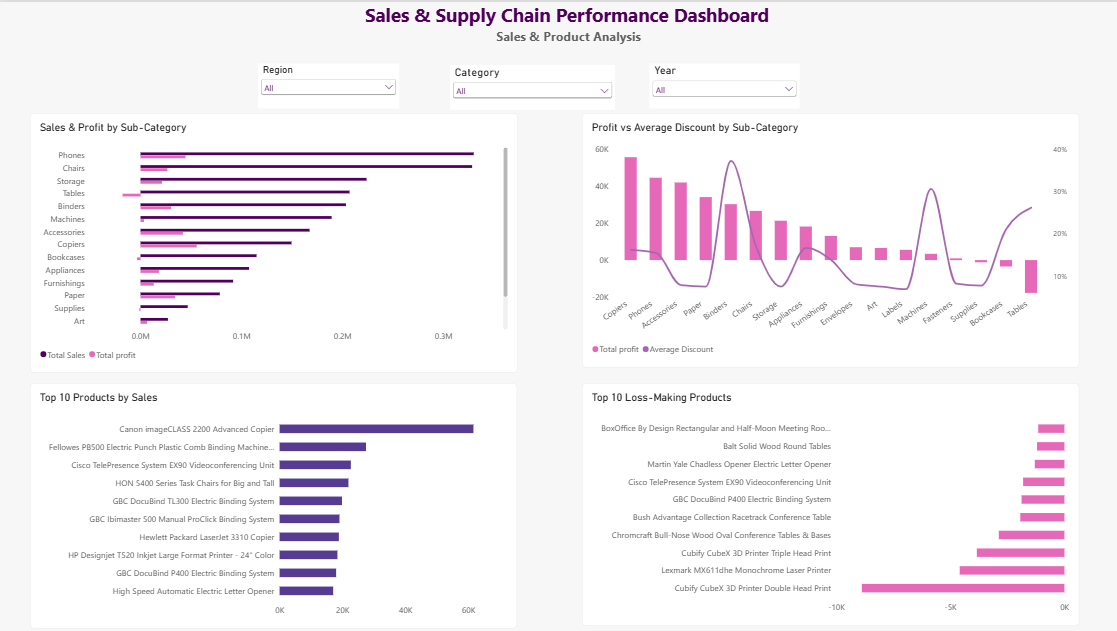

The page's visual inventory and layout, read from the dashboard file:
{"tool":"powerbi","page":{"name":"Sales & Product Analysis","canvas":[1920,1080],"ordinal":1},"visuals":[{"type":"clusteredBarChart","title":"Sales & Profit by Sub-Category","fields":{"Category":["Cleaned Sales Data.Sub-Category"],"Y":["Cleaned Sales Data.Total Sales","Cleaned Sales Data.Total profits"]},"box":[50,190,834.3,444.3],"z":0},{"type":"lineClusteredColumnComboChart","title":"Profit vs Average Discount by Sub-Category","fields":{"Category":["Cleaned Sales Data.Sub-Category"],"Y":["Cleaned Sales Data.Total profits"],"Y2":["Cleaned Sales Data.Average Discount"]},"box":[995,190,850,435],"z":1000},{"type":"clusteredBarChart","title":"Top 10 Loss-Making Products","fields":{"Category":["Cleaned Sales Data.Product Name"],"Y":["Cleaned Sales Data.Total profits"]},"box":[995,650,850,415],"z":2000},{"type":"clusteredBarChart","title":"Top 10 Products by Sales","fields":{"Category":["Cleaned Sales Data.Product Name"],"Y":["Cleaned Sales Data.Total Sales"]},"box":[50,650,832.5,420],"z":3000},{"type":"slicer","fields":{"Values":["Cleaned Sales Data.Category"]},"box":[768.6,107.1,282.1,76.9],"z":4000},{"type":"slicer","fields":{"Values":["Calendar Table.Year"]},"box":[1110,105.7,256.4,76.9],"z":5000},{"type":"slicer","fields":{"Values":["Cleaned Sales Data.Region"]},"box":[440,105.7,241,76.9],"z":6000},{"type":"textbox","box":[561.5,0,815.4,87.2],"z":7000}]}

Visuals, with their boxes in screenshot pixels (x1, y1, x2, y2), scaled from the page's 1920x1080 canvas onto the 1117x631 screenshot:
"Sales & Profit by Sub-Category" clusteredBarChart: bbox=[29, 111, 514, 371]
"Profit vs Average Discount by Sub-Category" lineClusteredColumnComboChart: bbox=[579, 111, 1073, 365]
"Top 10 Loss-Making Products" clusteredBarChart: bbox=[579, 380, 1073, 622]
"Top 10 Products by Sales" clusteredBarChart: bbox=[29, 380, 513, 625]
slicer - Cleaned Sales Data.Category: bbox=[447, 63, 611, 108]
slicer - Calendar Table.Year: bbox=[646, 62, 795, 107]
slicer - Cleaned Sales Data.Region: bbox=[256, 62, 396, 107]
textbox: bbox=[327, 0, 801, 51]
